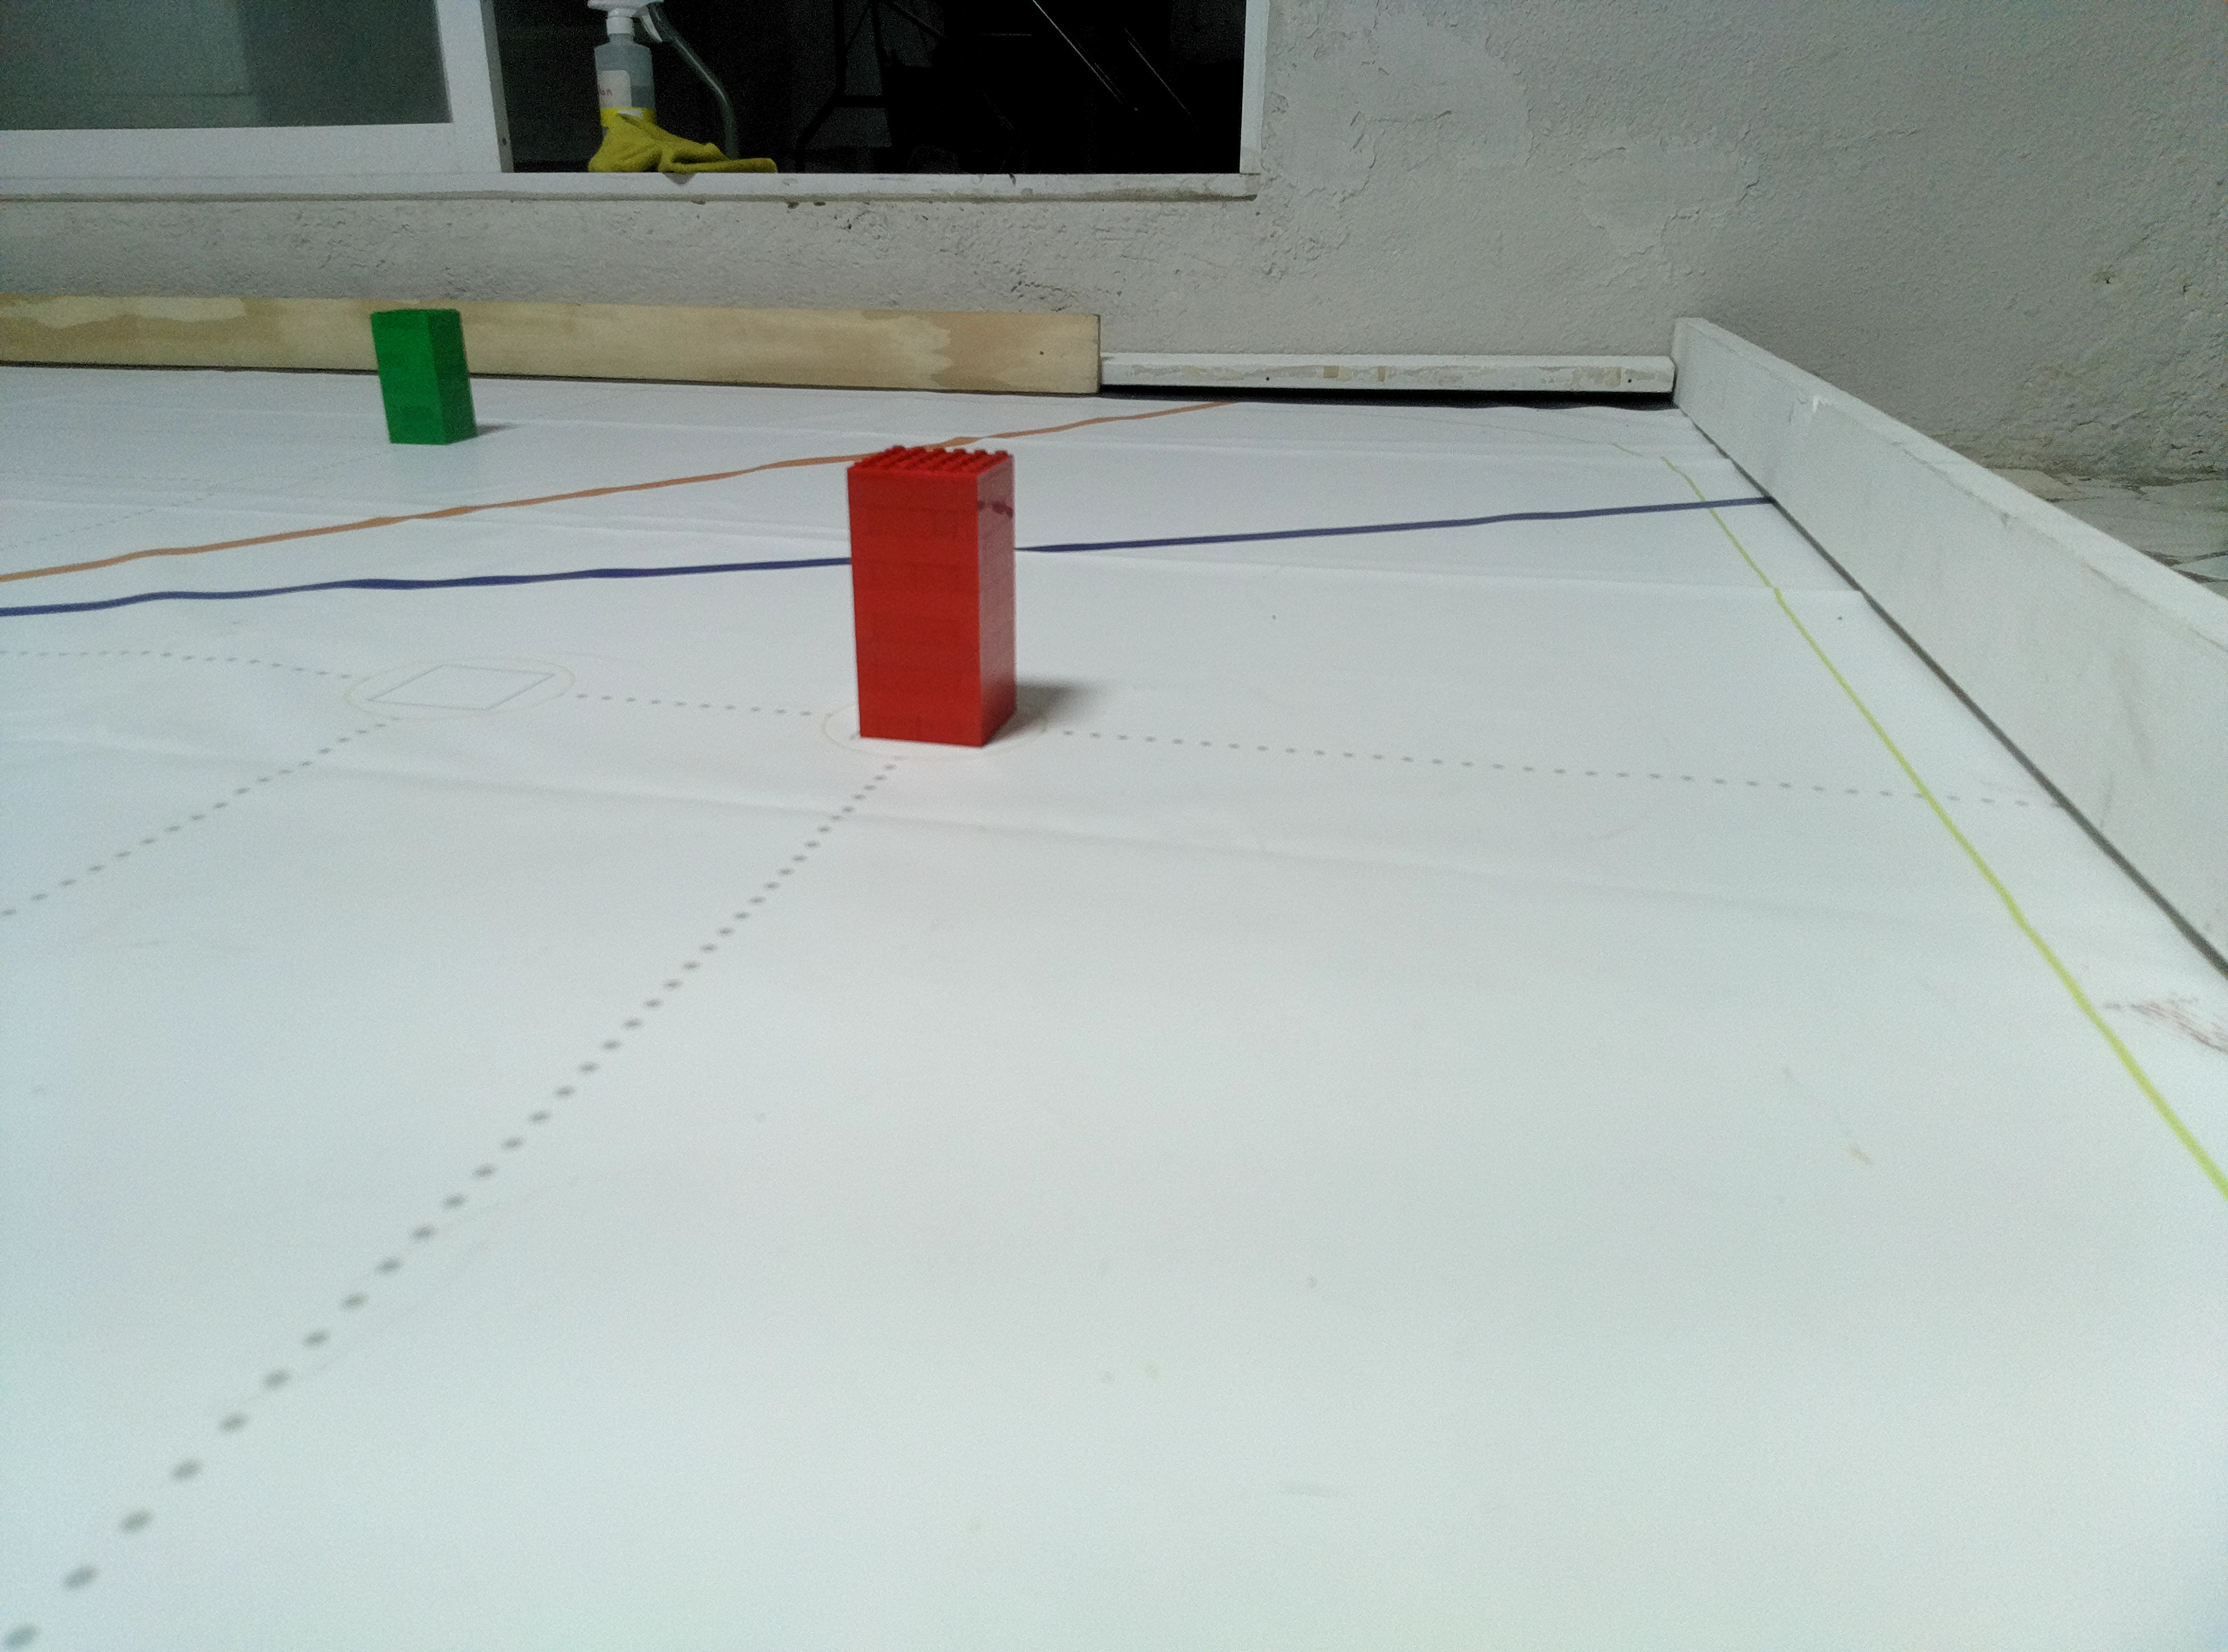greenbox: (364, 309, 482, 448)
redbox: (843, 441, 1020, 748)
